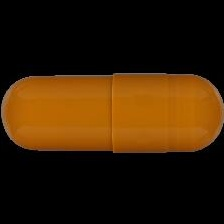54868-5987: (0, 0, 224, 224)
